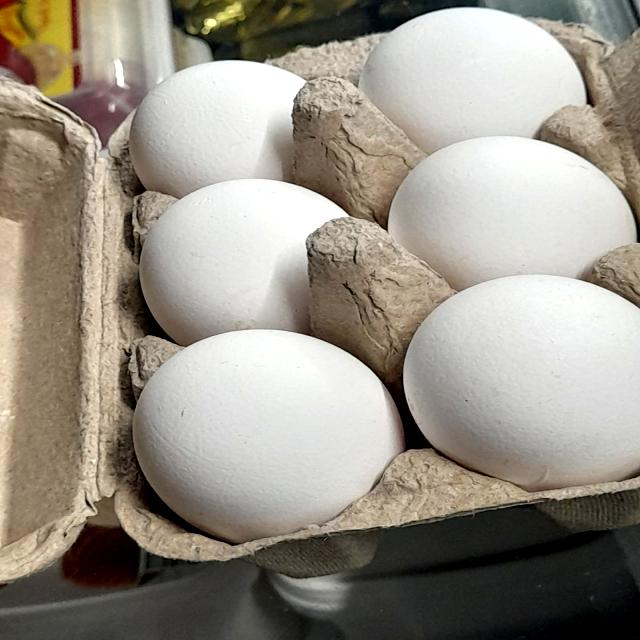egg: (115, 320, 417, 543), (404, 264, 640, 494), (384, 126, 640, 295), (125, 183, 363, 340)
